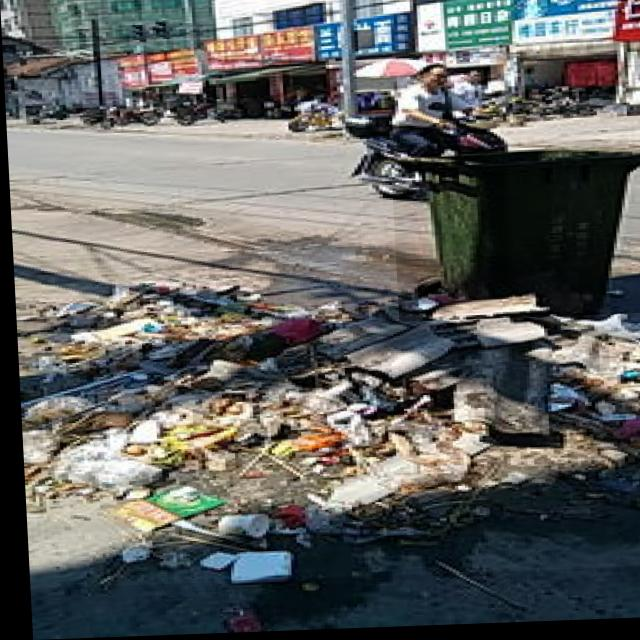garbage: (12, 267, 640, 589)
garbage_bin: (389, 150, 640, 325)
